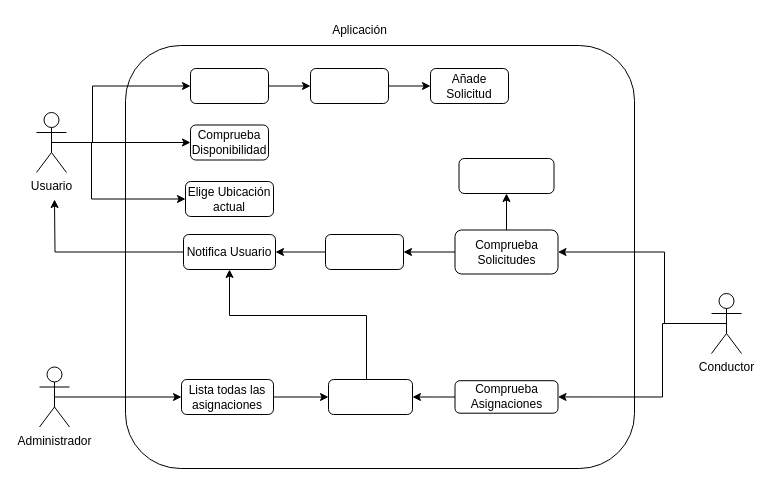
This 771x486 diagram has some shape labels left out. The shapes that lost their labels are listed below. From the top down, each one's box as (x1, y1, x2, y2) in pixels, then its label:
(190, 68, 268, 104): Selecciona destino
(310, 68, 388, 104): Confirma y Paga
(458, 158, 554, 194): Revisa dirección asignación
(324, 234, 404, 270): Acepta Asignación
(328, 378, 412, 414): Cancela Asignación
